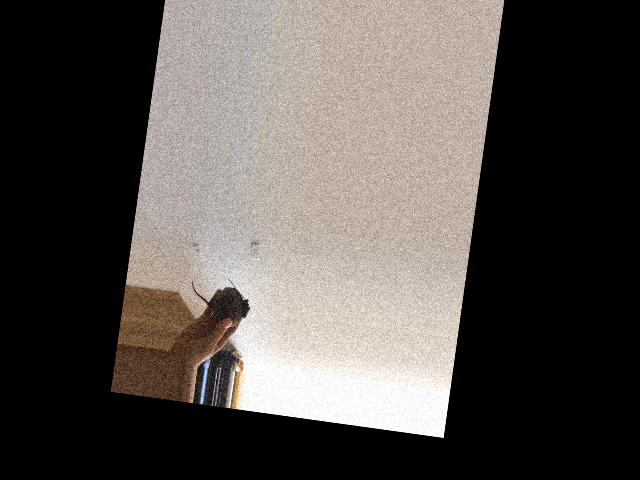beet: (185, 273, 253, 329)
